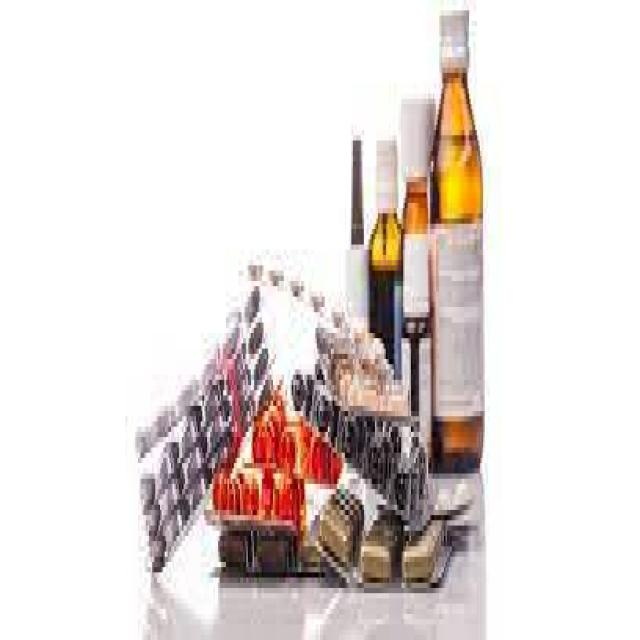B3: (428, 11, 496, 489), (314, 458, 462, 614), (364, 120, 405, 385)
